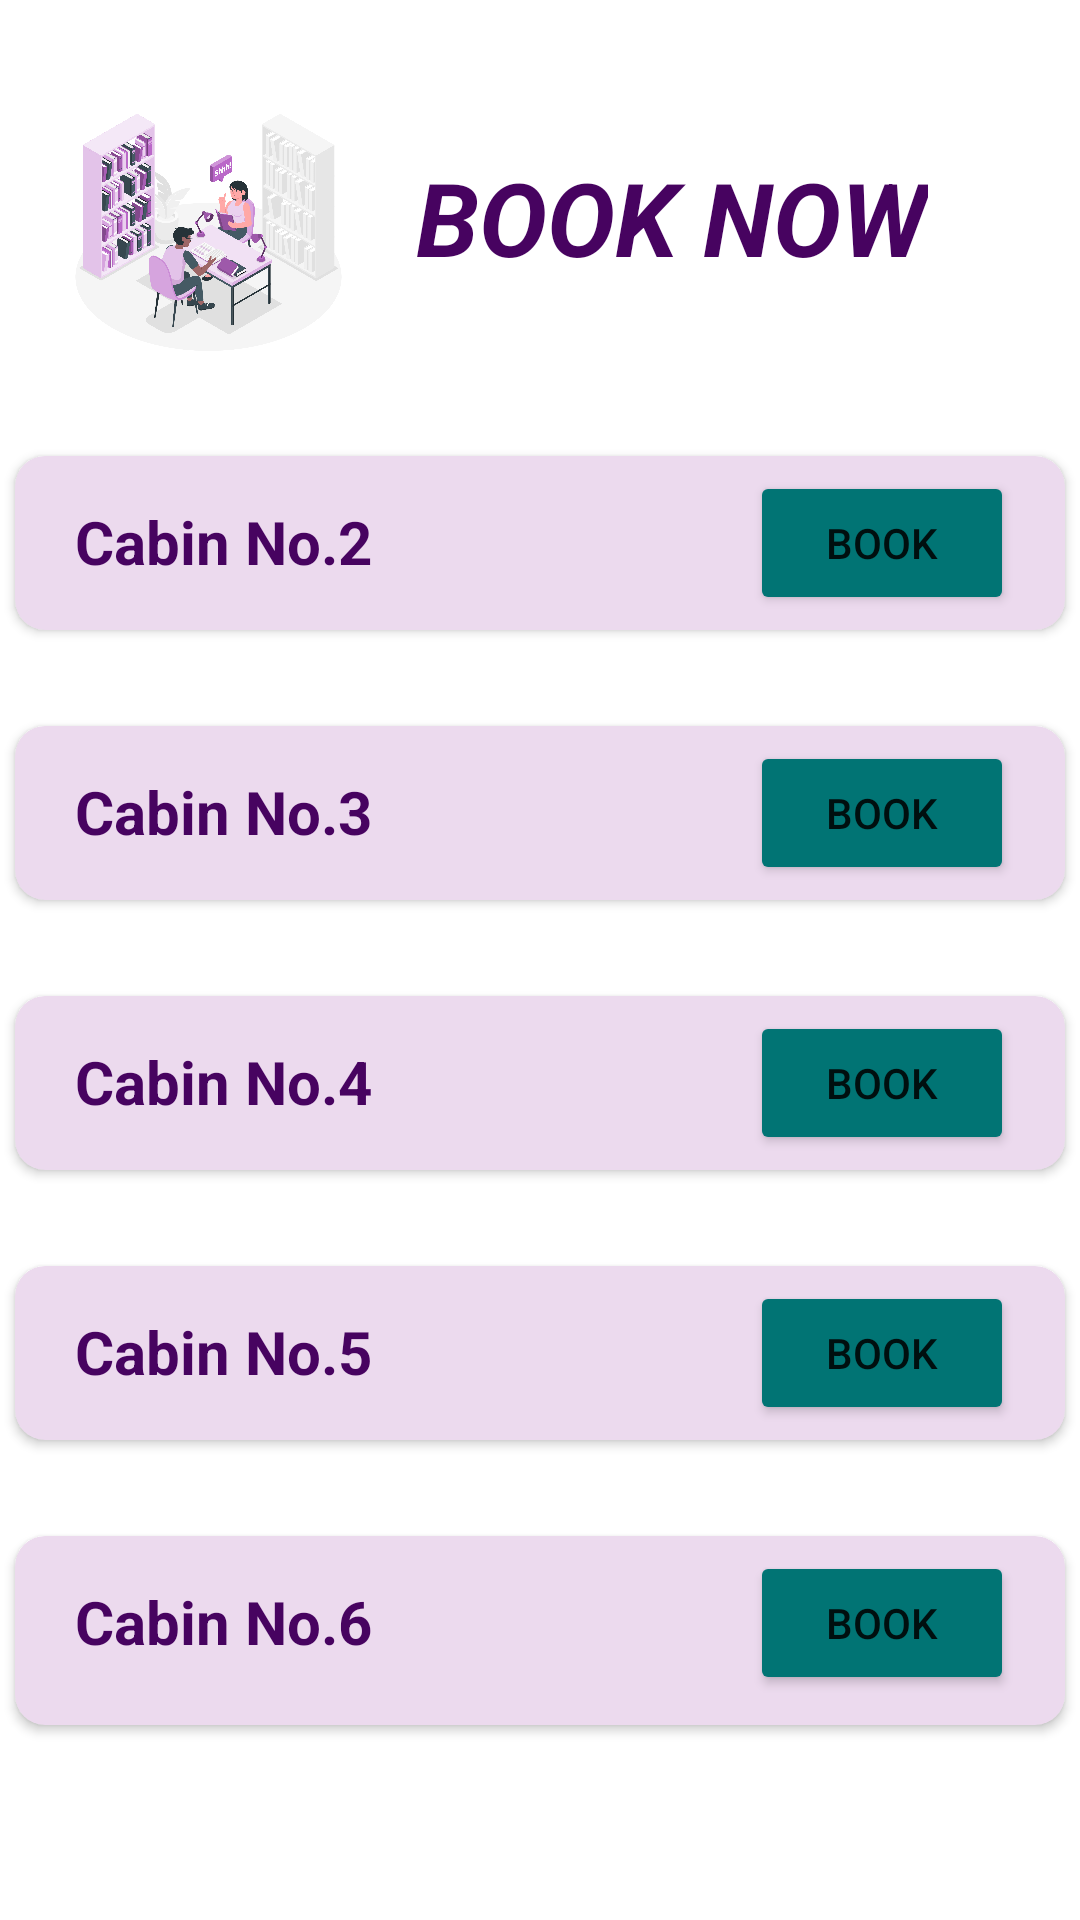

Where icons sit on this 1080 x 1920 app screen, as (x1, y1, x2, y2):
library amico: (76, 114, 342, 351)
